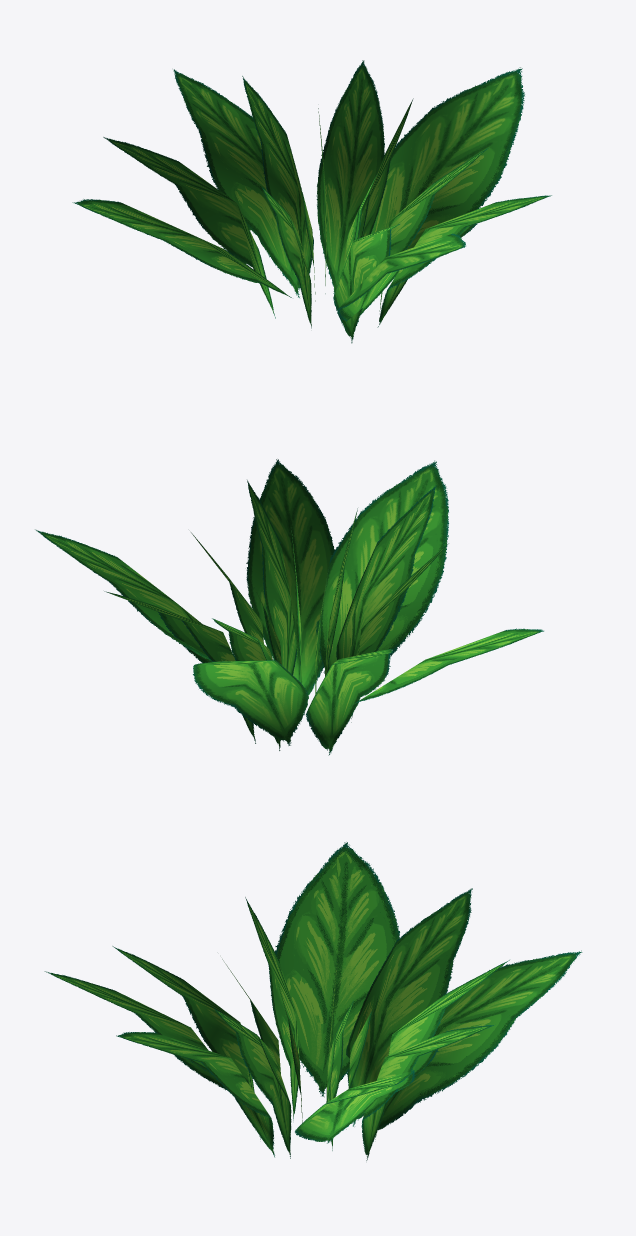
File: jungle plant1 edit.fbx
The picture shows the model from 3 angles, top to bottom: view 1: azimuth 30°, elevation 25°; view 2: azimuth 150°, elevation 25°; view 3: azimuth 270°, elevation 25°; orthographic projection. The views are drawn at different scales.
Parts seen in each view (by area): view 1: leaf test_1; view 2: leaf test_1; view 3: leaf test_1.
Boxes of the visible parts, <box> form: leaf test_1: <box>72,60,551,343</box>; leaf test_1: <box>35,459,543,755</box>; leaf test_1: <box>44,842,582,1160</box>.
Size of the model in its own units: 76.56 by 31.12 by 70.85.
